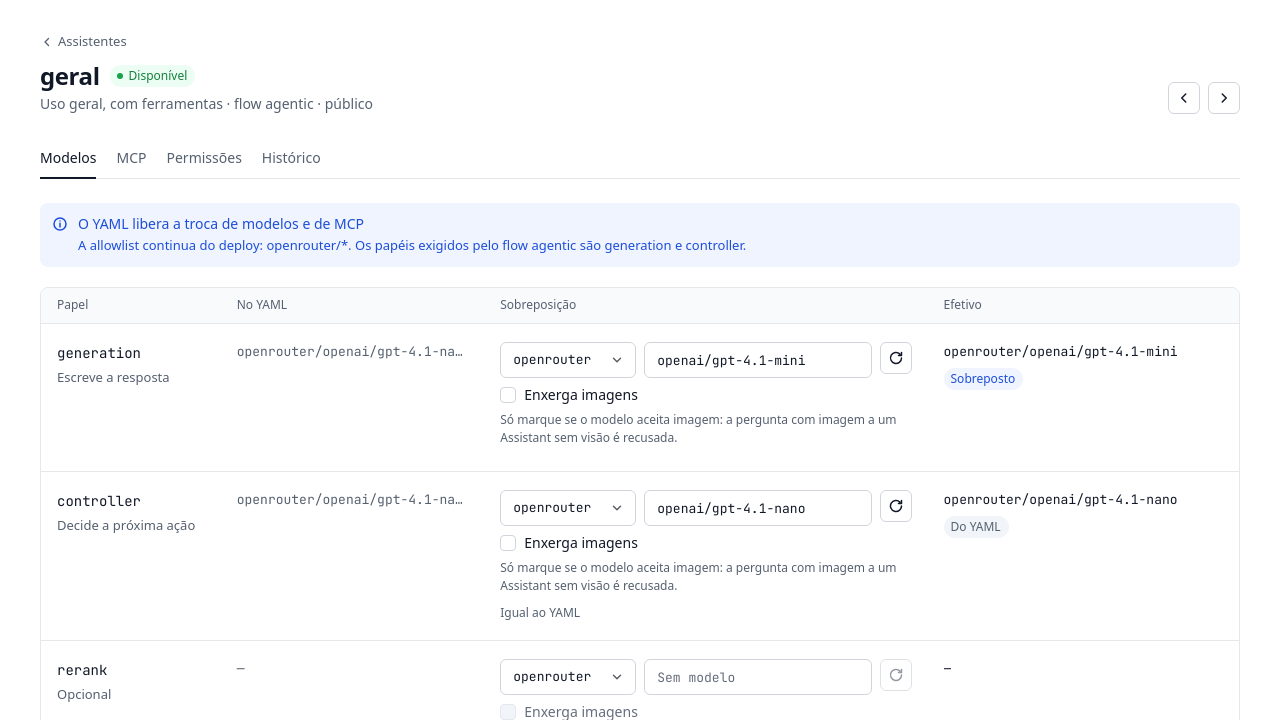
aba Modelos › conflito de versão avisa e mantém o rascunho
Replace the text in the field named "Modelo de generation" with "x/y" at (758, 360), box top-left (644, 342), bottom-right (872, 378)
(page scrolled)
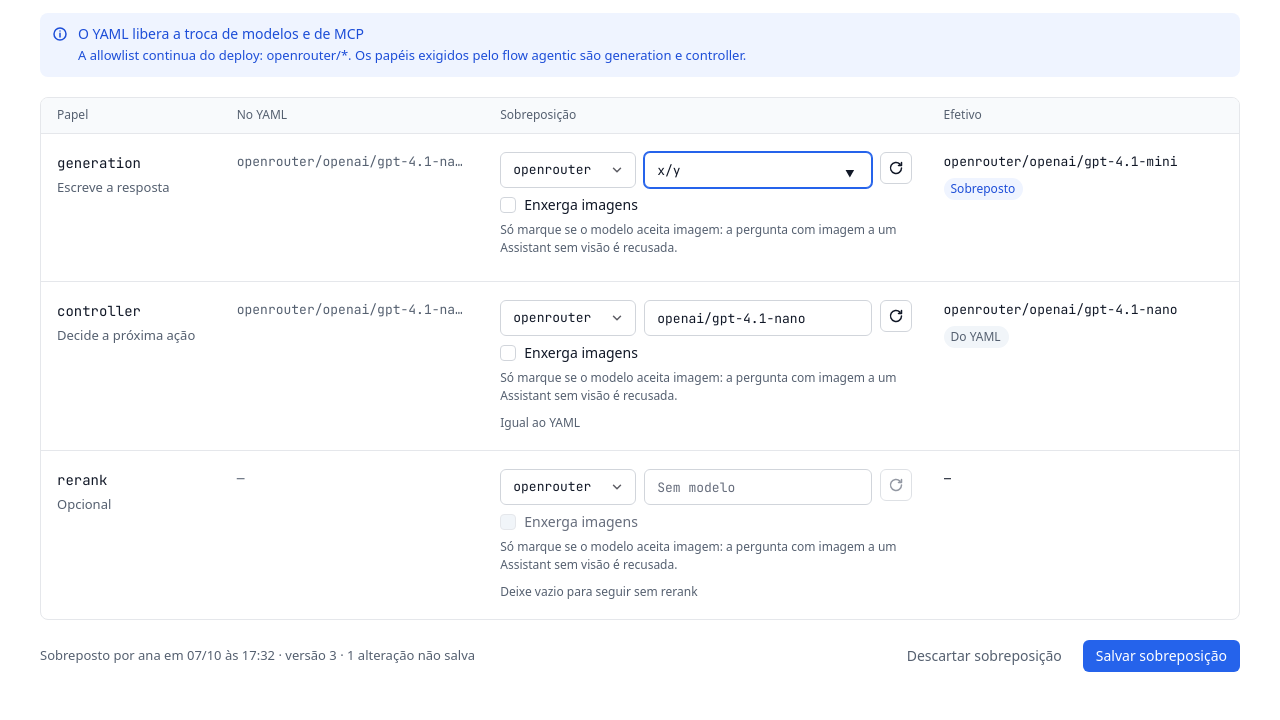
Click the button "Salvar sobreposição" at (1161, 656), box top-left (1083, 640), bottom-right (1240, 672)
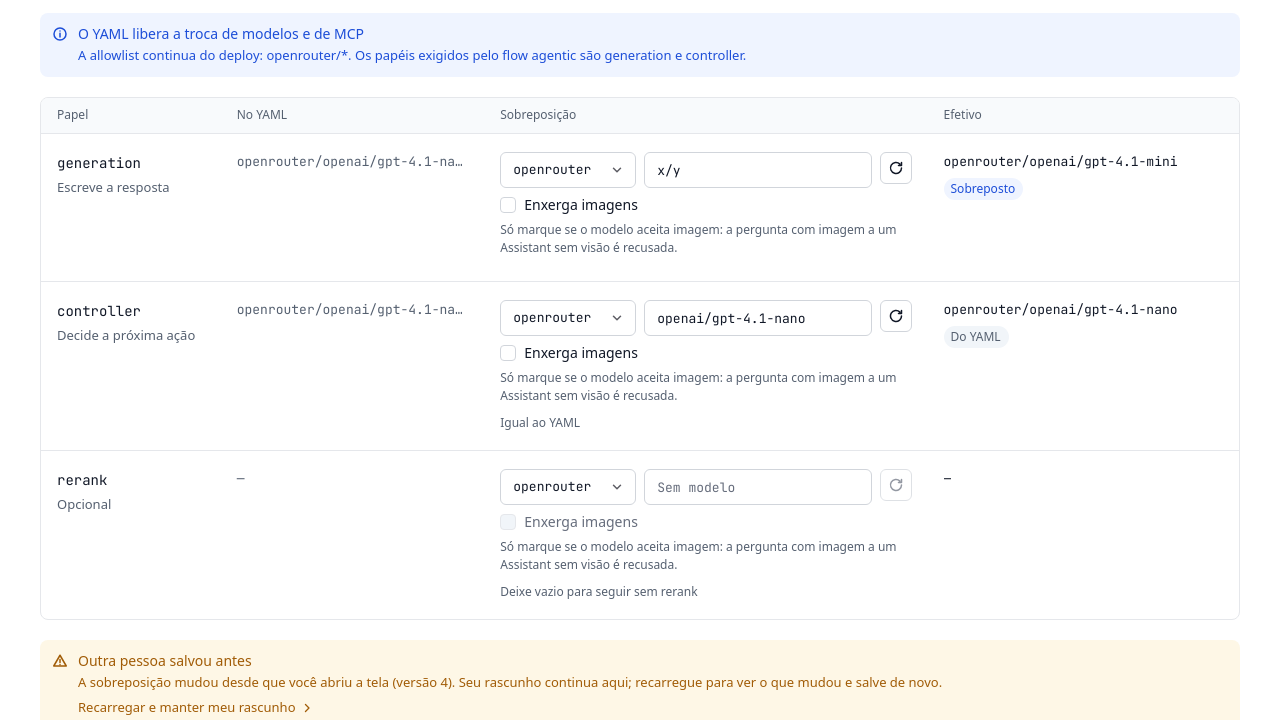
Check: the text "Outra pessoa salvou antes" is shown, box top-left (78, 651), bottom-right (252, 670)
